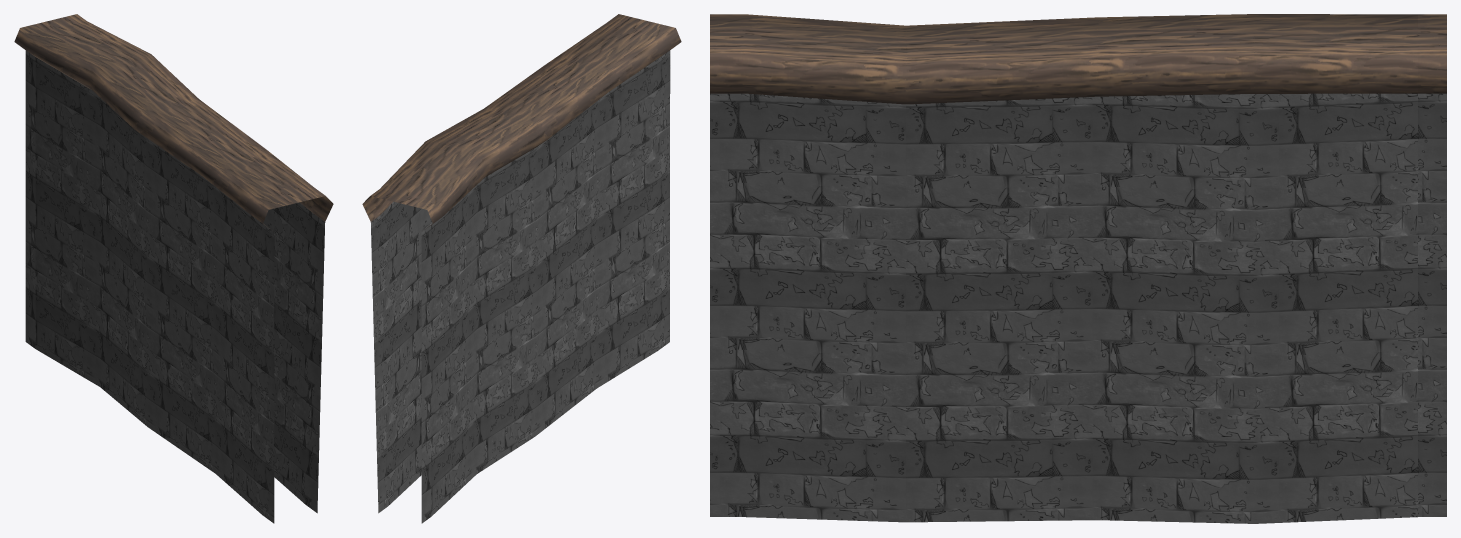
Rendered from TestWall.fbx.
3 views of the same model, side by side, from view 1: azimuth 30°, elevation 25°; view 2: azimuth 150°, elevation 25°; view 3: azimuth 270°, elevation 25° (orthographic). The views are drawn at different scales.
Visible parts, largest first — view 1: Cube, Cube.001; view 2: Cube, Cube.001; view 3: Cube, Cube.001.
Part boxes in pixels (bbox=[...]): Cube: bbox=[25, 50, 325, 523]; Cube.001: bbox=[14, 14, 333, 228]; Cube: bbox=[370, 50, 670, 523]; Cube.001: bbox=[362, 14, 681, 229]; Cube: bbox=[710, 93, 1446, 523]; Cube.001: bbox=[710, 14, 1446, 104].
Bounding box in the file's own units: 186 × 711 × 1000.
